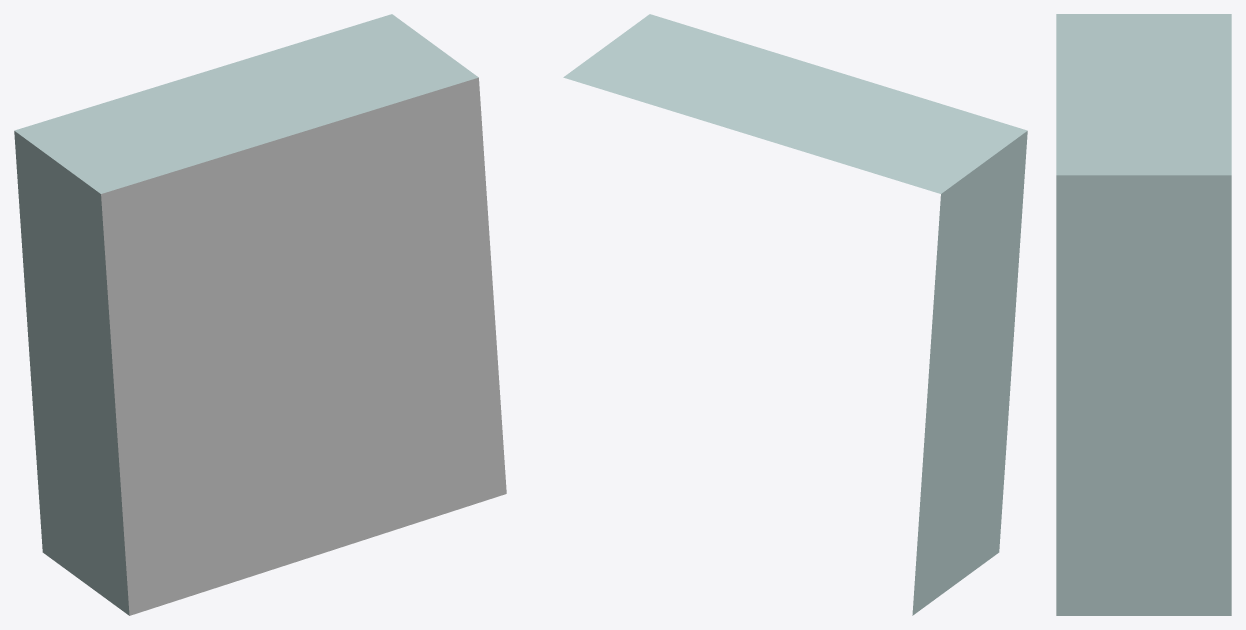
3 renders of one model, left to right at view 1: azimuth 30°, elevation 25°; view 2: azimuth 150°, elevation 25°; view 3: azimuth 270°, elevation 25°, orthographic.
Parts seen in each view (by area): view 1: 0_1_2_1_0_2_2_3_3; view 2: 0_1_2_1_0_2_2_3_3; view 3: 0_1_2_1_0_2_2_3_3.
Part boxes in pixels (x1,y1,x2,y2): 0_1_2_1_0_2_2_3_3: [14, 14, 506, 615]; 0_1_2_1_0_2_2_3_3: [563, 14, 1027, 615]; 0_1_2_1_0_2_2_3_3: [1056, 14, 1231, 615].
Size of the model in its own units: 8.1 by 8.64 by 3.
